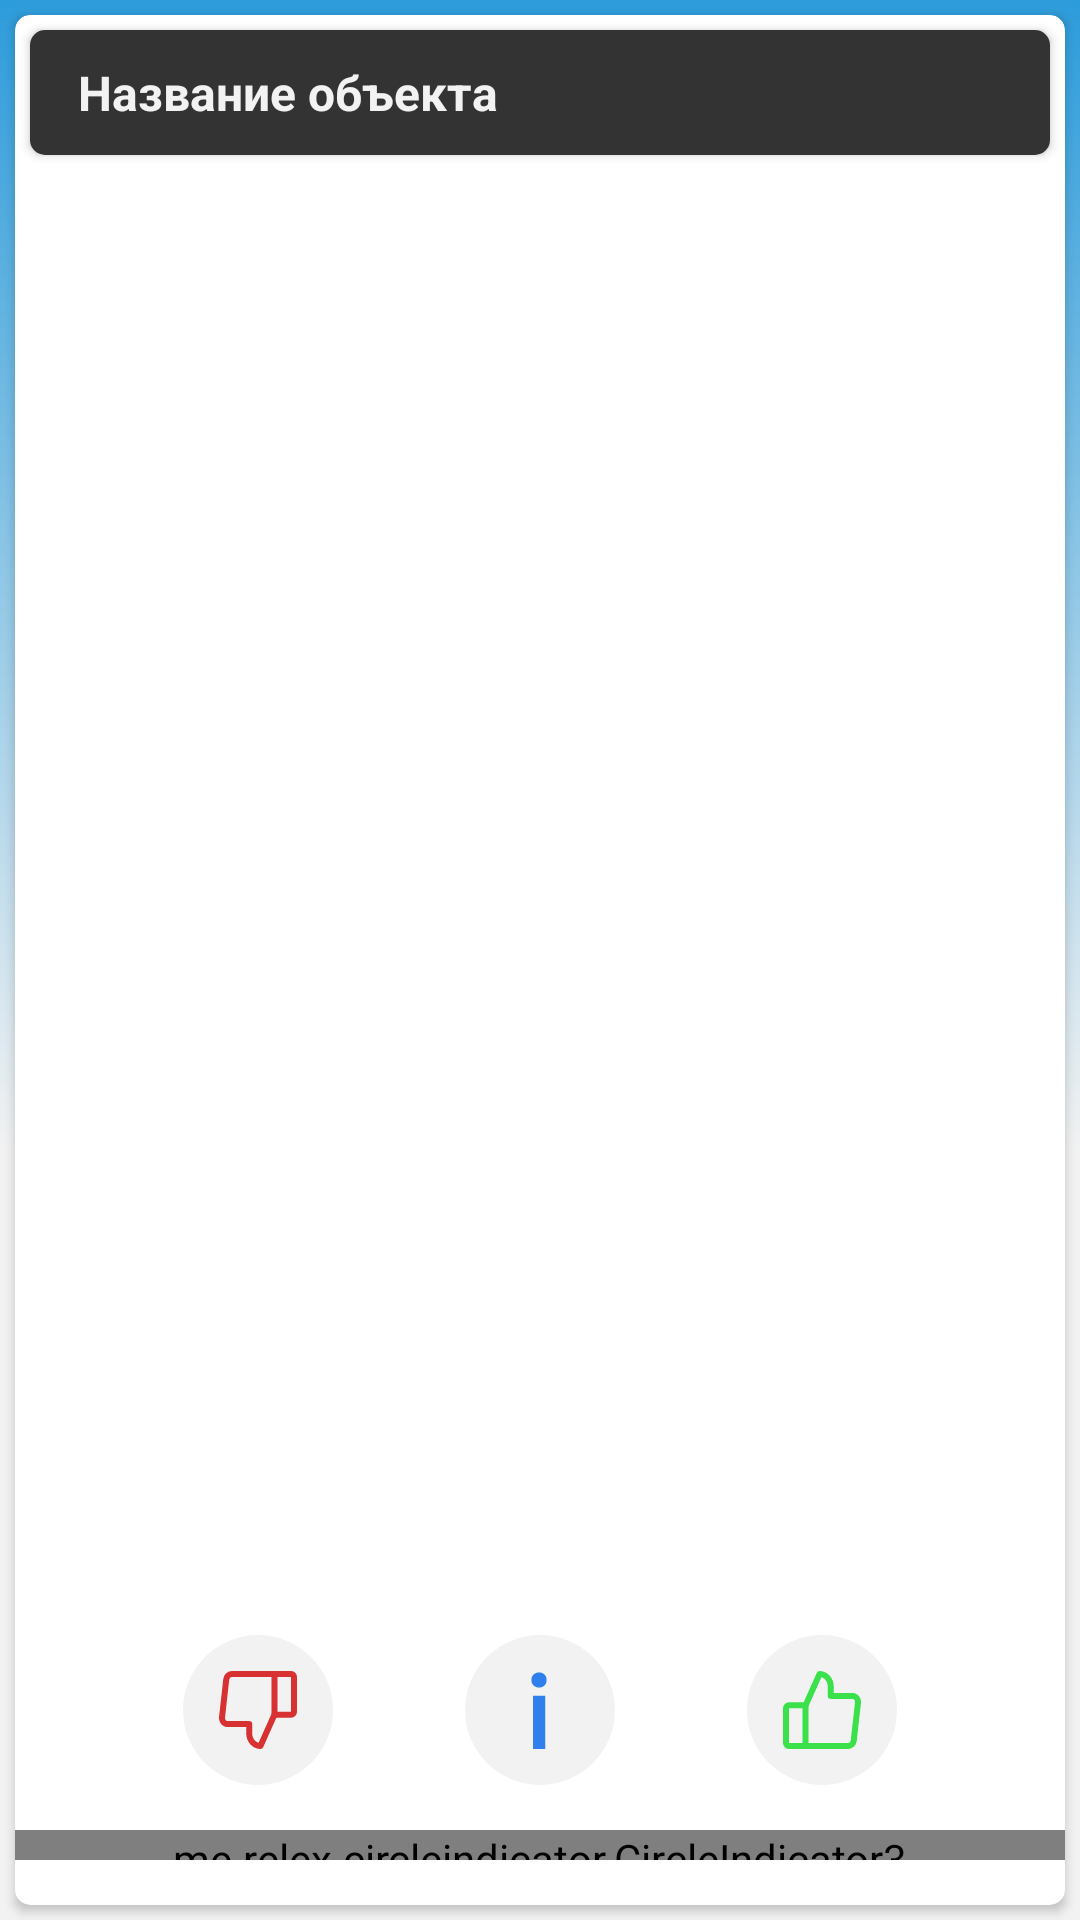

Icons on this 1080px×1920px Android screen, each with its box as (x1, y1, x2, y2):
swipes details: (531, 1672, 547, 1749)
swipes dislike: (183, 1635, 333, 1785)
swipes like: (747, 1635, 897, 1785)
